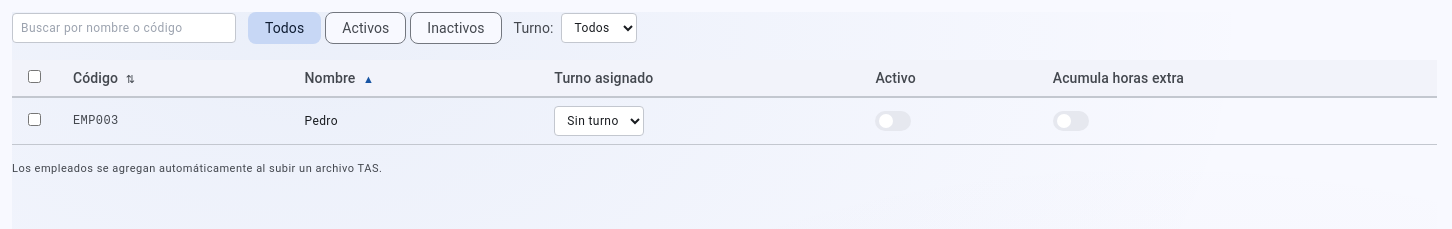
Test: EmployeesTab active toggle › reactivation note can be dismissed
This screenshot has width=1452, height=229.
Expected: the text "Pedro" is shown, x1=288 y1=97 x2=538 y2=144
Click the switch named "Activar empleado" at point(894, 120), box x1=876 y1=110 x2=912 y2=130
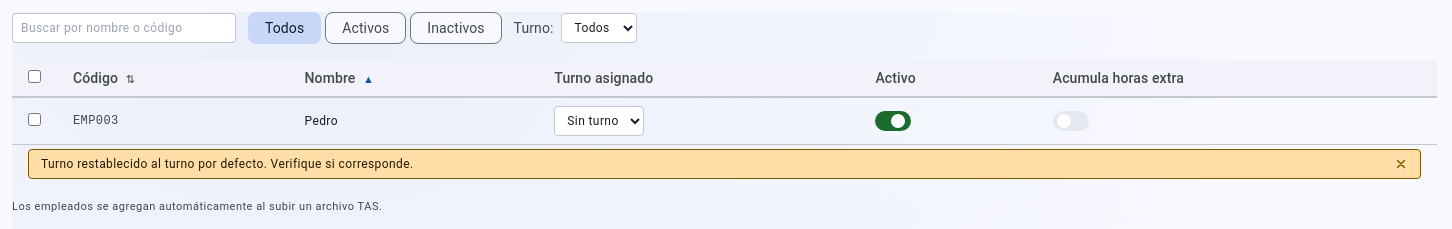
Now the text "Turno restablecido" is shown, box x1=41 y1=157 x2=414 y2=171
Click the button named "descartar nota" at point(1401, 164), box x1=1394 y1=157 x2=1408 y2=171
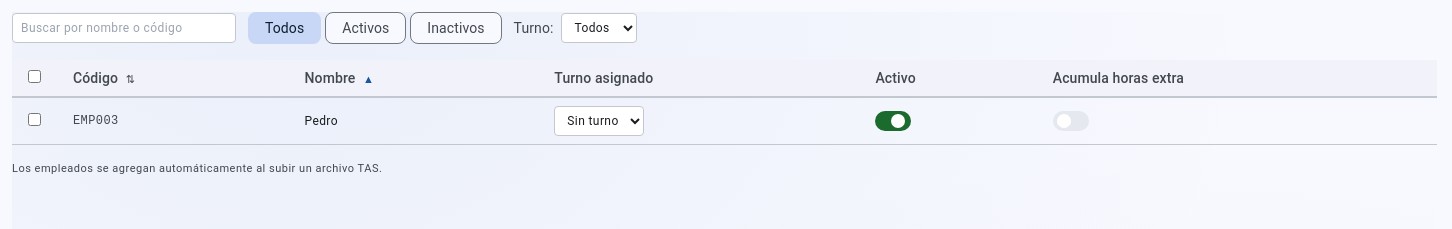
Now the text "Turno restablecido" is gone
